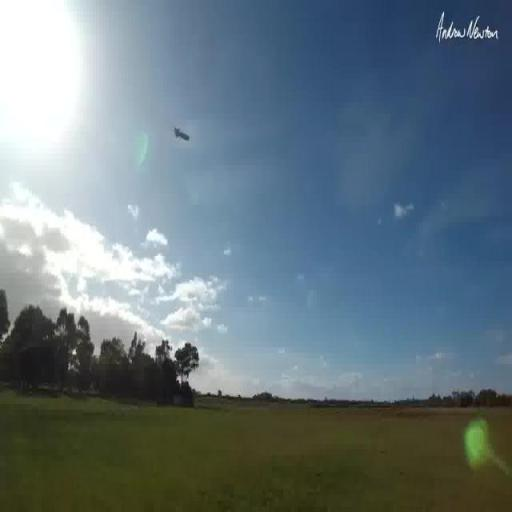uav: (175, 116, 191, 151)
